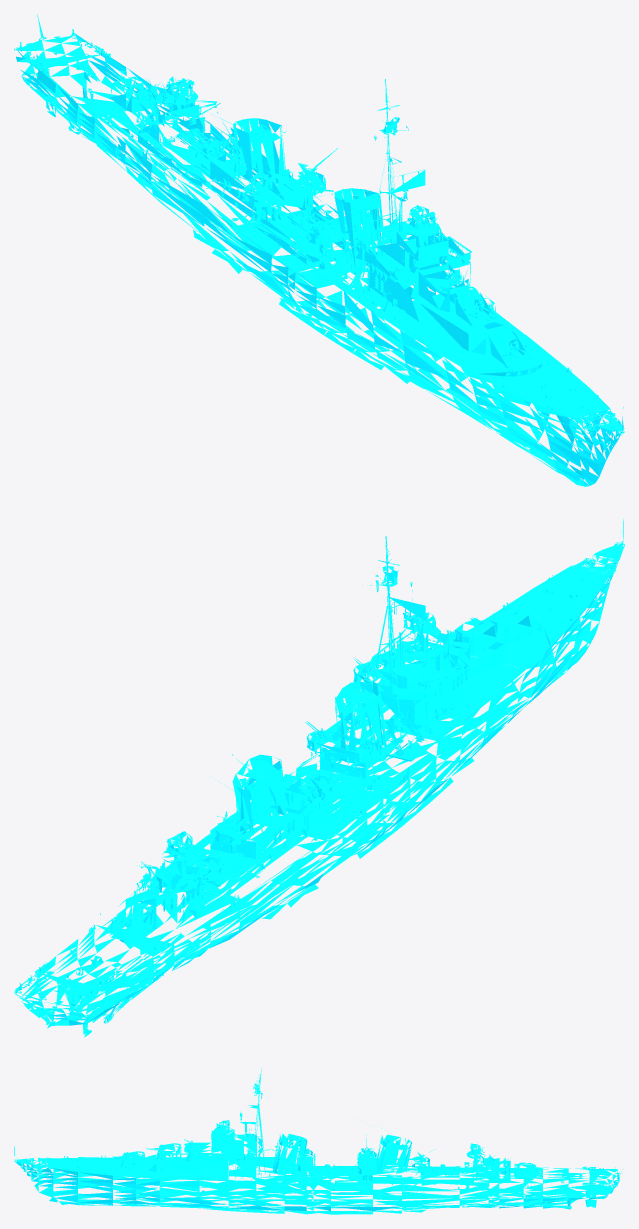
The model's file is PGSD910.glb.
The picture shows the model from 3 angles, top to bottom: view 1: azimuth 30°, elevation 25°; view 2: azimuth 150°, elevation 25°; view 3: azimuth 270°, elevation 25°; orthographic projection. The views are drawn at different scales.
Parts seen in each view (by area): view 1: hull_mid, hull_bow, hull_stern, main_battery, aa_mount, superstructure, torpedo; view 2: hull_mid, hull_bow, hull_stern, main_battery, aa_mount, superstructure, torpedo; view 3: hull_mid, hull_bow, hull_stern, main_battery, torpedo, aa_mount, superstructure.
Part boxes in pixels (left/top/right/bottom): hull_mid: left=115, top=79, right=524, bottom=417; hull_bow: left=442, top=335, right=624, bottom=486; hull_stern: left=14, top=14, right=191, bottom=180; main_battery: left=108, top=72, right=532, bottom=367; aa_mount: left=143, top=79, right=461, bottom=288; superstructure: left=166, top=76, right=435, bottom=230; torpedo: left=177, top=128, right=331, bottom=242; hull_mid: left=117, top=536, right=525, bottom=971; hull_bow: left=450, top=519, right=624, bottom=731; hull_stern: left=14, top=913, right=199, bottom=1037; main_battery: left=108, top=603, right=532, bottom=942; aa_mount: left=143, top=629, right=461, bottom=899; superstructure: left=166, top=597, right=435, bottom=856; torpedo: left=193, top=767, right=347, bottom=882; hull_mid: left=147, top=1068, right=510, bottom=1214; hull_bow: left=14, top=1146, right=159, bottom=1206; hull_stern: left=499, top=1166, right=622, bottom=1209; main_battery: left=110, top=1143, right=548, bottom=1178; torpedo: left=312, top=1164, right=469, bottom=1176; aa_mount: left=184, top=1128, right=510, bottom=1171; superstructure: left=216, top=1111, right=483, bottom=1154.
Size of the model in its own units: 0.942 by 2.28 by 8.88.
